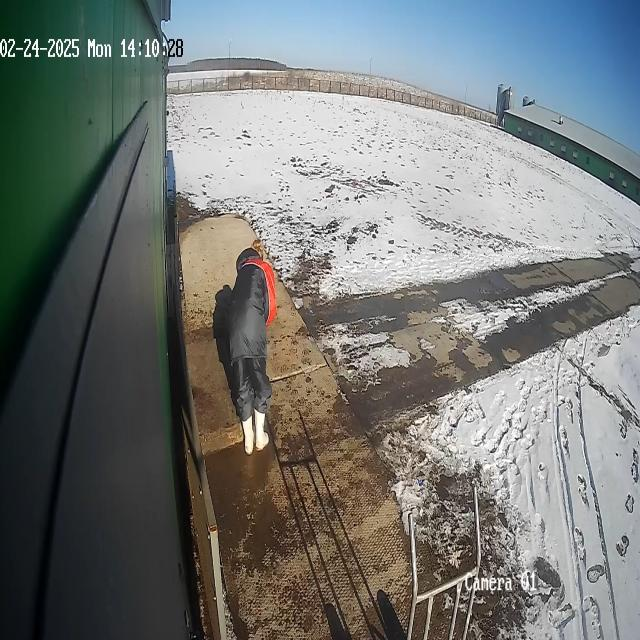Red uniform: (212, 246, 276, 424)
